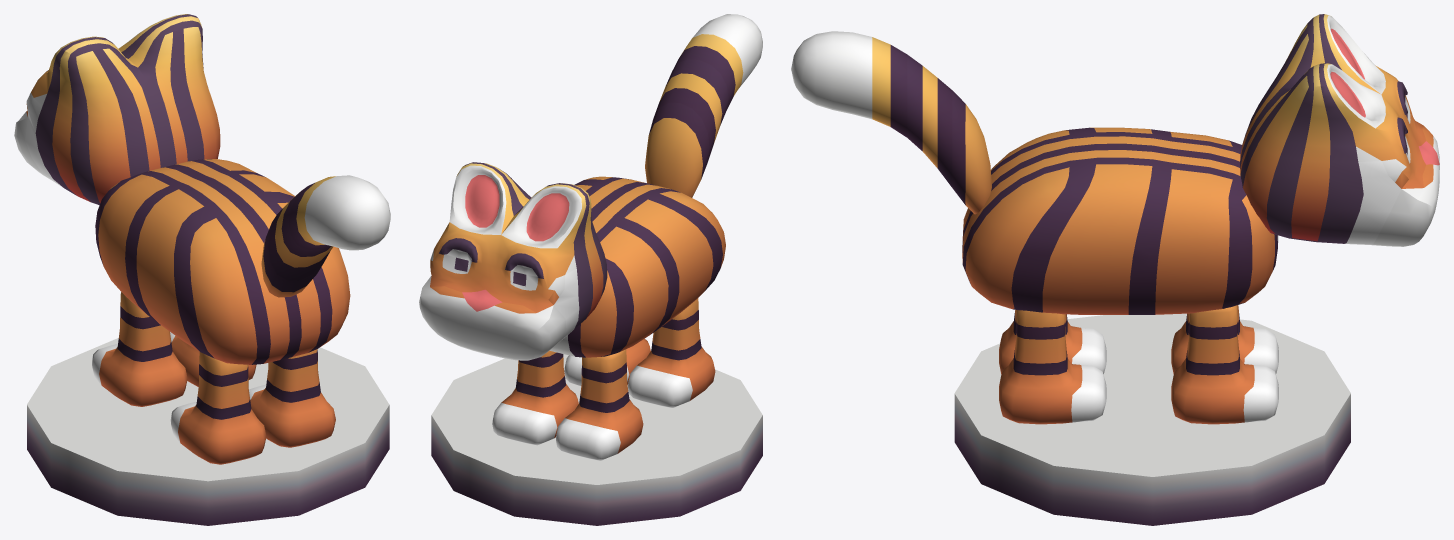
File: Statue Tiger.fbx
3 renders of one model, left to right at view 1: azimuth 30°, elevation 25°; view 2: azimuth 150°, elevation 25°; view 3: azimuth 270°, elevation 25°, orthographic. The views are drawn at different scales.
Visible parts, largest first — view 1: Statue Tiger; view 2: Statue Tiger; view 3: Statue Tiger.
Boxes of the visible parts, box(x1,y1,x2,y2) form: Statue Tiger: box(14, 14, 390, 525); Statue Tiger: box(419, 14, 762, 525); Statue Tiger: box(791, 14, 1439, 525).
Bounding box in the file's own units: 438 × 497 × 717.
1 material, 1 textured.
